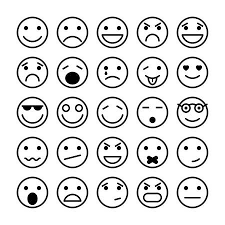feliz: (10, 13, 52, 52), (95, 94, 135, 132), (52, 96, 92, 132), (170, 58, 212, 89), (176, 16, 213, 50), (177, 137, 211, 173), (96, 136, 129, 173), (174, 98, 213, 129), (16, 98, 51, 132), (97, 17, 129, 51), (177, 102, 208, 124), (60, 63, 85, 86), (181, 22, 206, 44), (102, 103, 126, 125), (20, 102, 44, 124), (102, 24, 126, 44), (61, 105, 86, 124), (22, 24, 43, 44), (63, 144, 83, 164), (102, 144, 123, 163), (183, 63, 205, 81), (182, 144, 203, 162), (183, 25, 203, 43)
triste: (134, 15, 174, 52), (10, 56, 52, 90), (55, 12, 92, 50), (93, 57, 133, 91), (12, 138, 54, 169), (56, 176, 93, 211), (174, 177, 215, 208), (55, 137, 91, 172), (22, 60, 46, 87), (143, 182, 167, 205), (142, 22, 166, 44), (60, 184, 84, 205), (61, 26, 85, 45), (21, 144, 44, 162), (21, 65, 43, 83), (102, 183, 124, 201), (102, 65, 124, 82), (183, 183, 205, 200)
